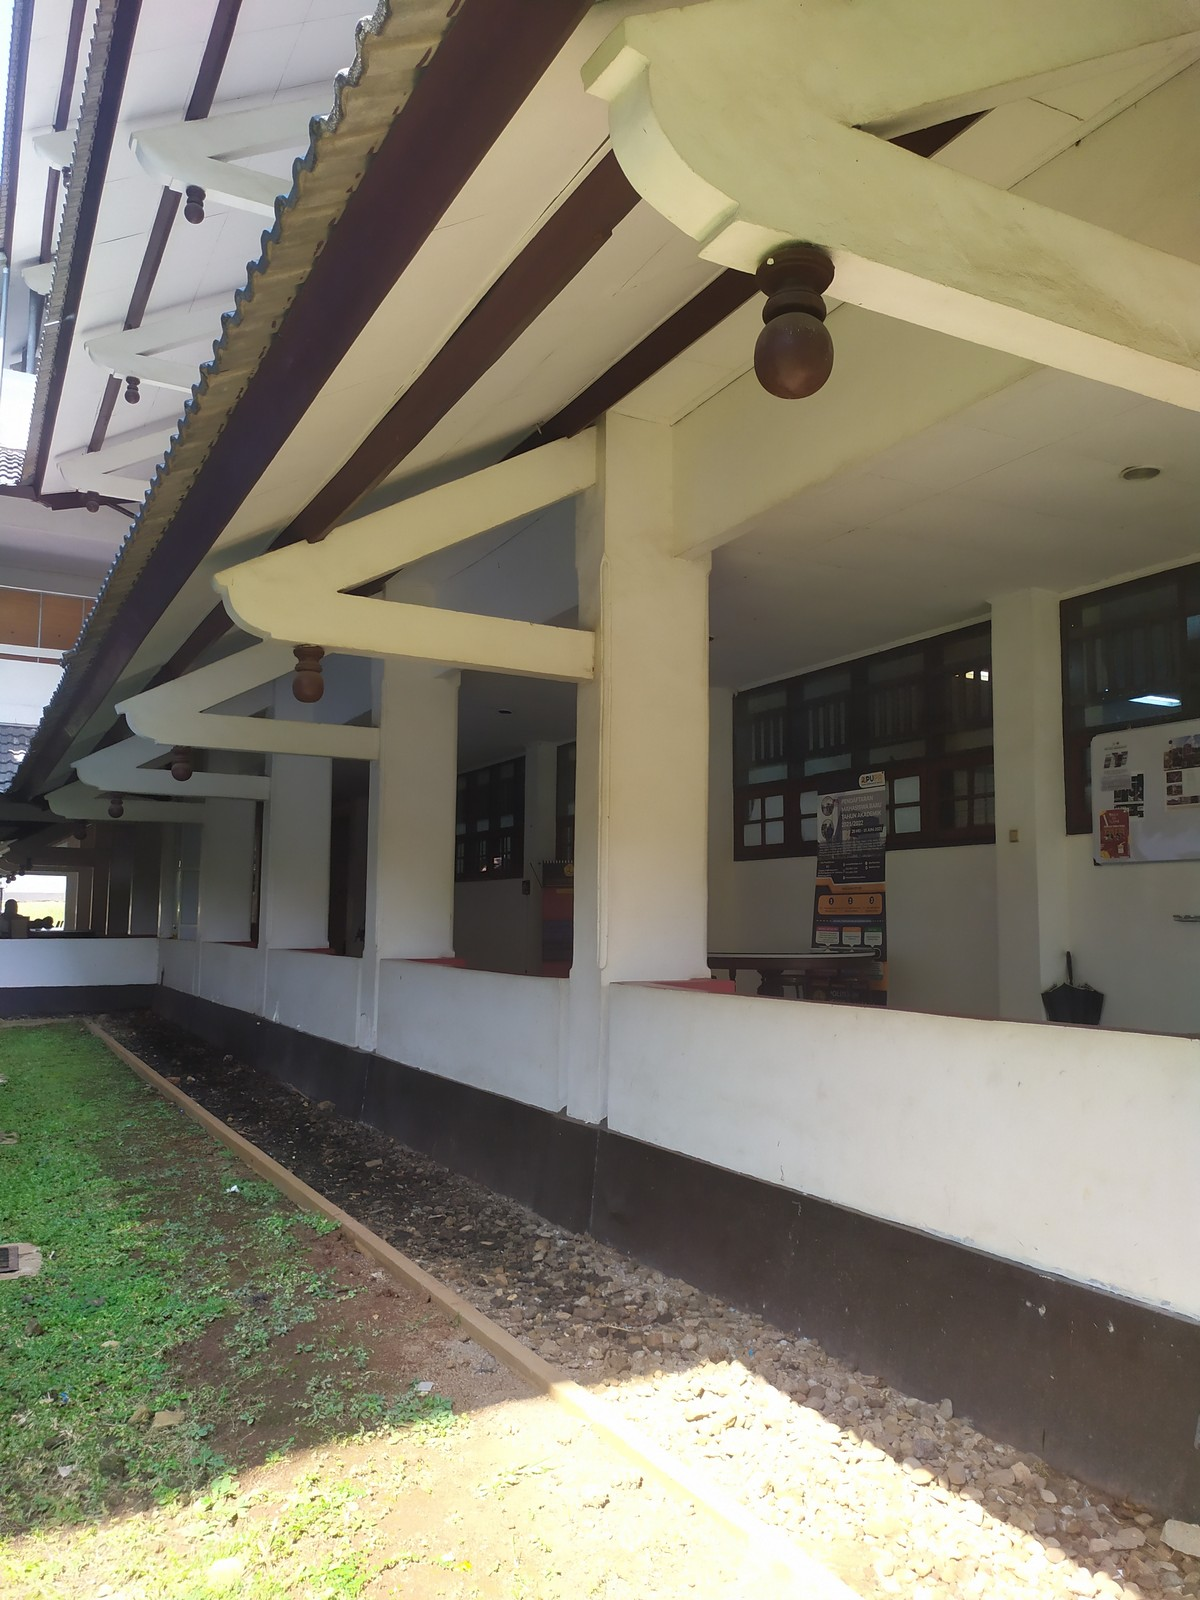concrete beam: (868, 151, 1200, 417), (308, 596, 604, 695)
concrete column: (565, 414, 727, 1029), (984, 585, 1073, 1020), (361, 650, 460, 974)
